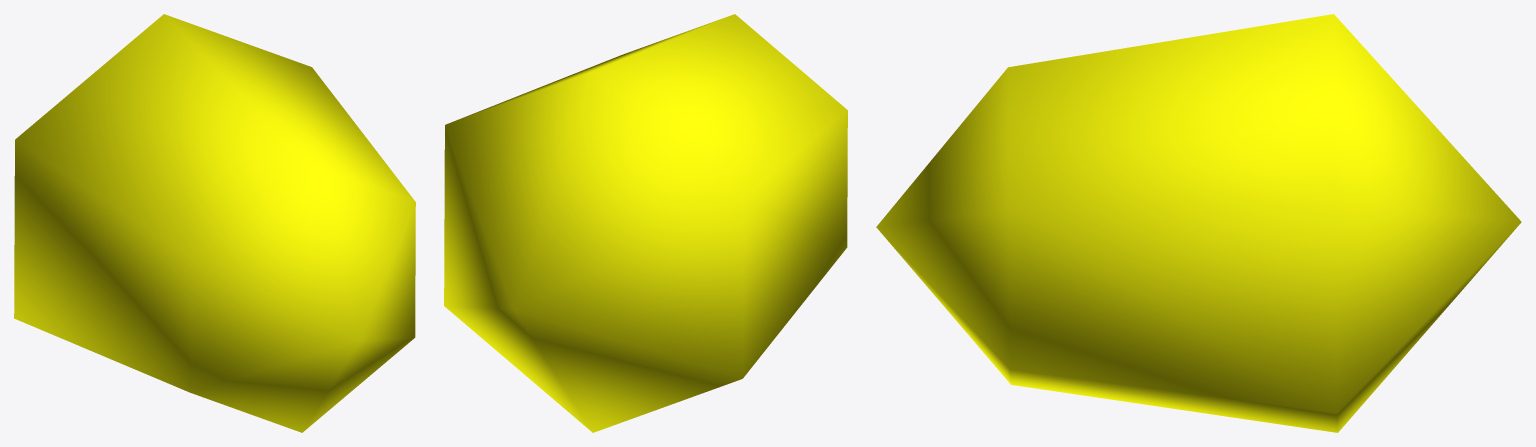
Rendered from bullet.glb.
The picture shows the model from 3 angles, left to right: view 1: azimuth 30°, elevation 25°; view 2: azimuth 150°, elevation 25°; view 3: azimuth 270°, elevation 25°; orthographic projection. The views are drawn at different scales.
Parts seen in each view (by area): view 1: Sphere001; view 2: Sphere001; view 3: Sphere001.
Part boxes in pixels (x1=…): Sphere001: x1=14, y1=14, x2=415, y2=432; Sphere001: x1=444, y1=14, x2=847, y2=432; Sphere001: x1=876, y1=14, x2=1521, y2=432.
Bounding box in the file's own units: 0.75 × 0.866 × 1.21.
1 material, 1 textured.
